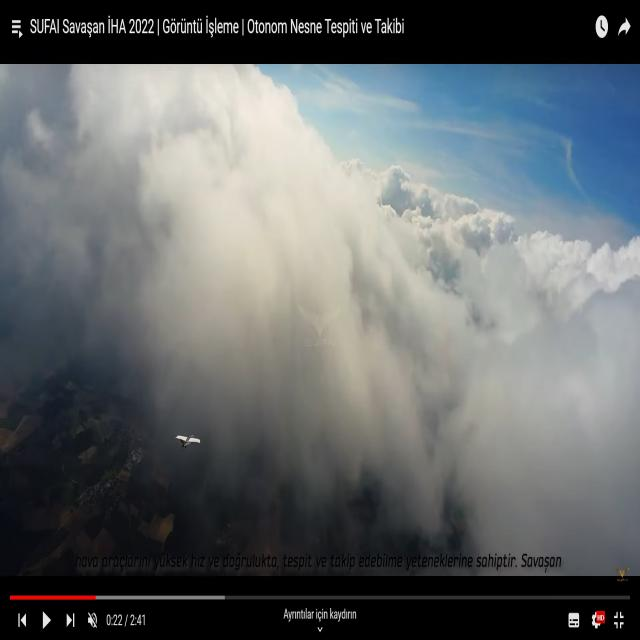iha: (175, 432, 202, 450)
